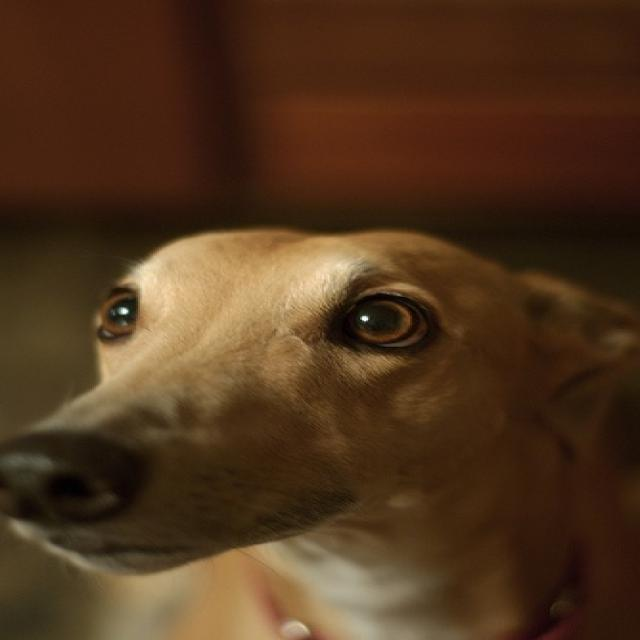dog: (2, 212, 638, 638)
